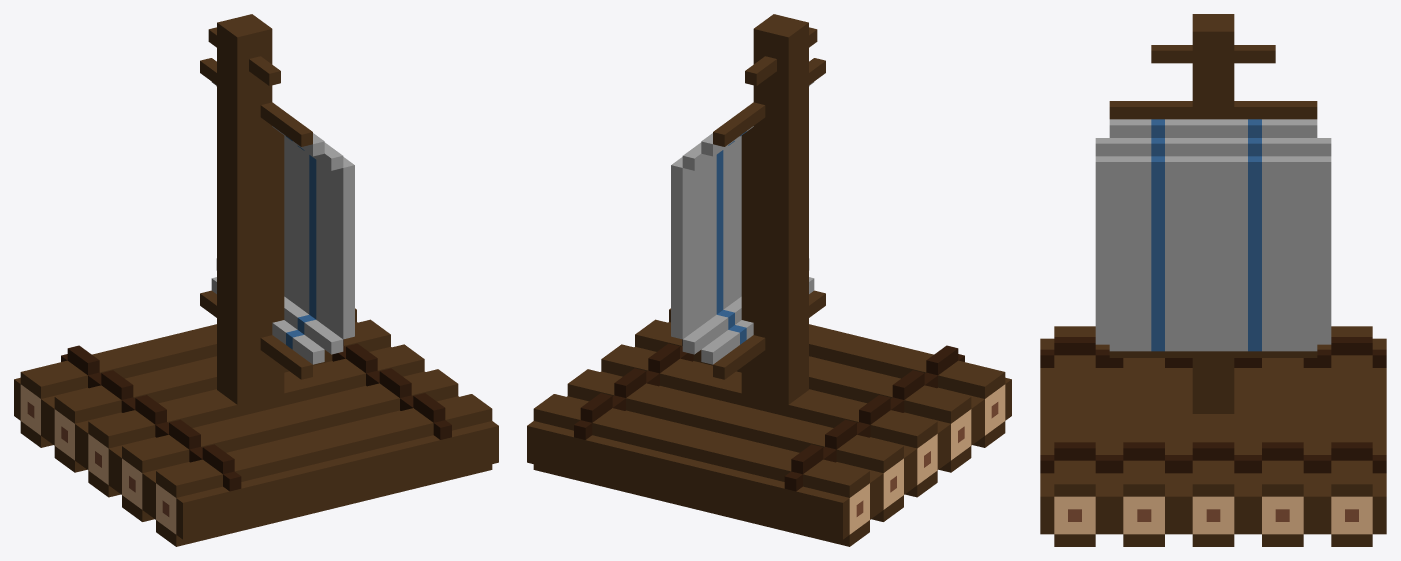
Rendered from obj.sailingRaft.obj.
The picture shows the model from 3 angles, left to right: view 1: azimuth 30°, elevation 25°; view 2: azimuth 150°, elevation 25°; view 3: azimuth 270°, elevation 25°; orthographic projection. The views are drawn at different scales.
Size of the model in its own units: 2.7 by 3.5 by 2.5.
1 material, 1 textured.
